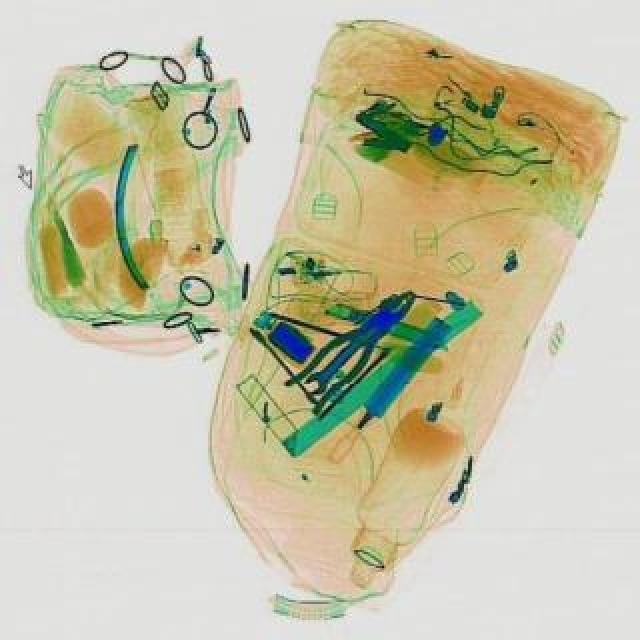scissors: (302, 318, 390, 402)
wrench: (284, 280, 432, 418)
